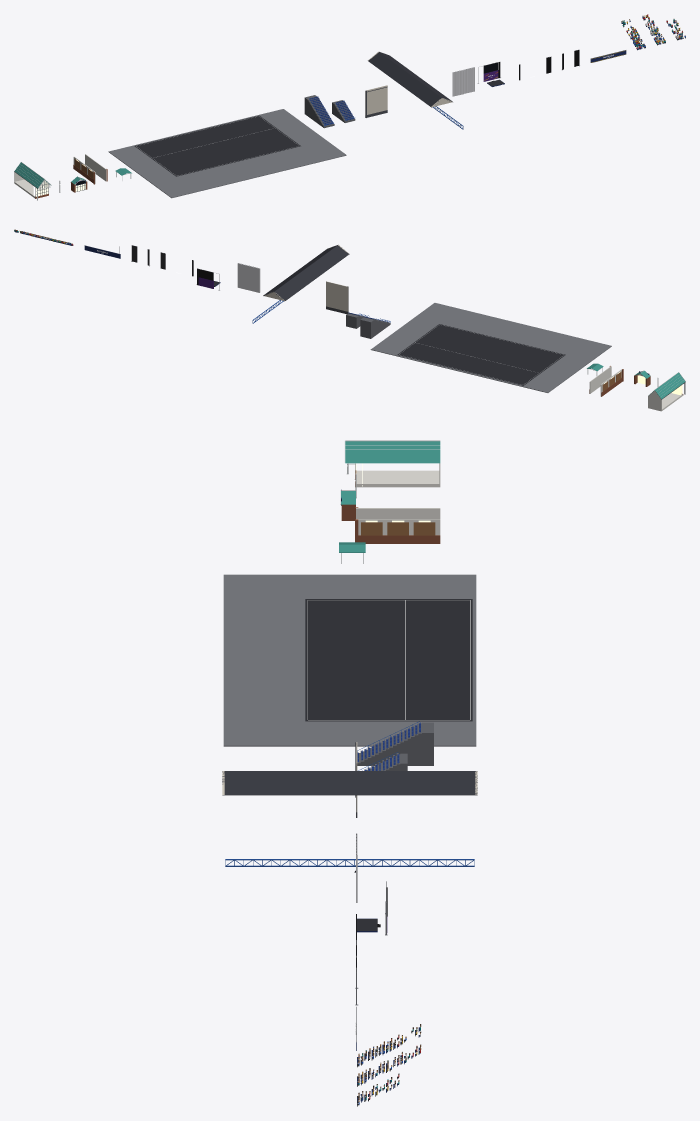
The model's file is NationalsArena_08.glb.
3 views of the same model, one above another, from view 1: azimuth 30°, elevation 25°; view 2: azimuth 150°, elevation 25°; view 3: azimuth 270°, elevation 25° (orthographic). The views are drawn at different scales.
Visible parts, largest first — view 1: NatFloor_Concrete, NatFloor_Rubber, NatRoofBay_Plates, NatDrape_Cloth, NatWall_Wall, NatStandMain_Steps, NatBay_Roof, NatStandEnd_Steps; view 2: NatFloor_Concrete, NatFloor_Rubber, NatRoofBay_Plates, NatDrape_Cloth, NatWall_Wall, NatStandMain_Steps, NatBay_Walls, NatBay_Roof; view 3: NatFloor_Concrete, NatFloor_Rubber, NatRoofBay_Plates, NatBay_Roof, NatStandMain_Steps, NatBay_Walls, NatTruss_Steel.
Part boxes in pixels (x1,y1,x2,y2): NatFloor_Concrete: (108, 109, 346, 198); NatFloor_Rubber: (134, 115, 300, 176); NatRoofBay_Plates: (368, 52, 452, 107); NatDrape_Cloth: (452, 67, 474, 96); NatWall_Wall: (365, 85, 387, 114); NatStandMain_Steps: (304, 95, 334, 128); NatBay_Roof: (14, 162, 50, 188); NatStandEnd_Steps: (332, 100, 355, 122); NatFloor_Concrete: (370, 303, 611, 392); NatFloor_Rubber: (397, 324, 565, 385); NatRoofBay_Plates: (263, 245, 349, 301); NatDrape_Cloth: (237, 263, 260, 292); NatWall_Wall: (326, 281, 348, 311); NatStandMain_Steps: (360, 317, 390, 338); NatBay_Walls: (648, 390, 682, 411); NatBay_Roof: (648, 372, 685, 399); NatFloor_Concrete: (223, 574, 476, 746); NatFloor_Rubber: (305, 599, 472, 721); NatRoofBay_Plates: (222, 771, 477, 795); NatBay_Roof: (345, 441, 440, 463); NatStandMain_Steps: (357, 722, 433, 765); NatBay_Walls: (356, 463, 440, 487); NatTruss_Steel: (225, 859, 474, 866).
Bounding box in the file's own units: 1250 × 68.4 × 212.
